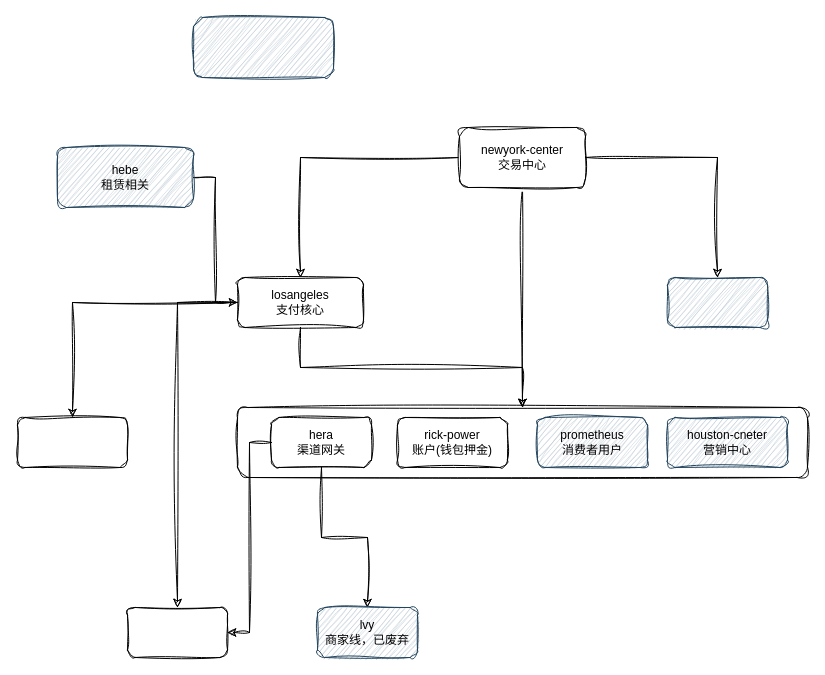
Image size: 825x675. Some labels were removed from this diagram. The centre of each missing label's shape, as x and y in pixels:
alires 支付配置系统: (177,632)
ceres 支付协议: (72,442)
chicago-center 订单中心(v2): (717,302)
lhc 大杂烩: (263,47)
